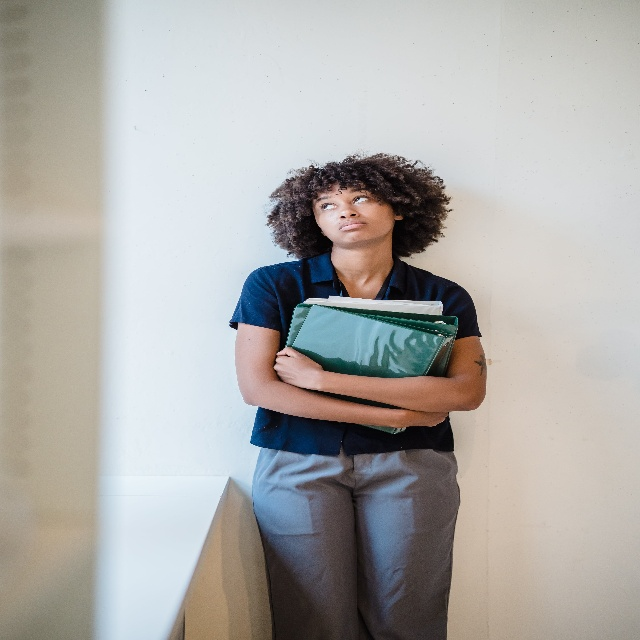Sin_guantes: (273, 346, 323, 392), (402, 408, 448, 428)
